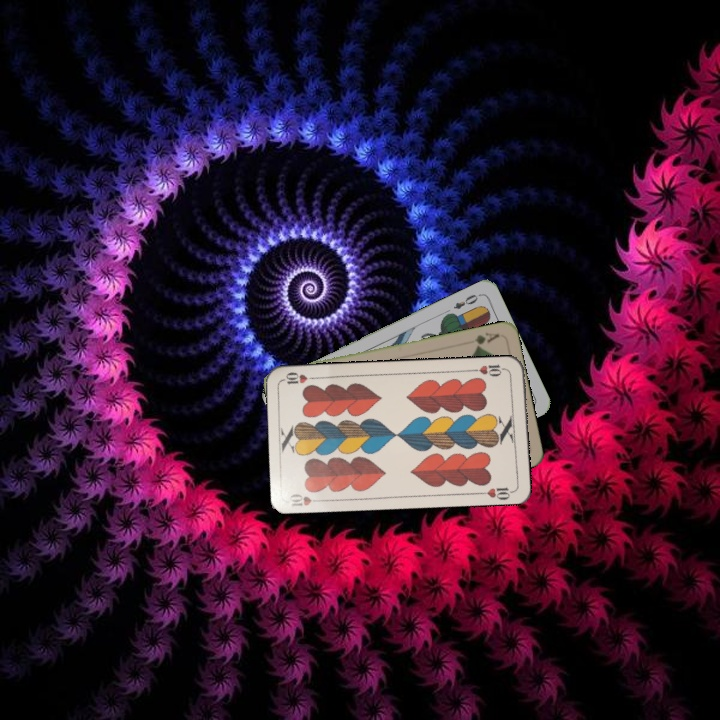EO: (449, 290, 483, 312)
GA: (471, 328, 502, 350)
H10: (285, 490, 326, 509), (469, 360, 509, 379)
